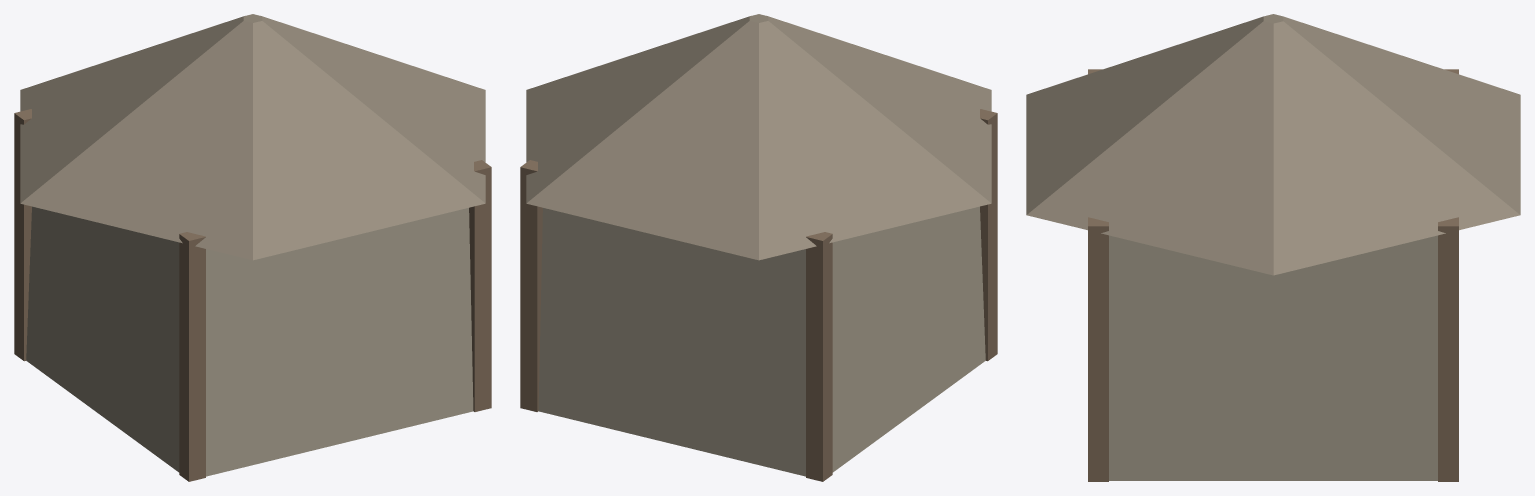
File: storehouse.glb
3 renders of one model, left to right at view 1: azimuth 30°, elevation 25°; view 2: azimuth 150°, elevation 25°; view 3: azimuth 270°, elevation 25°, orthographic. The views are drawn at different scales.
Visible parts, largest first — view 1: storehouse; view 2: storehouse; view 3: storehouse.
Boxes of the visible parts, box(x1,y1,x2,y2) form: storehouse: box(14, 14, 491, 481); storehouse: box(520, 14, 997, 481); storehouse: box(1026, 14, 1520, 481).
Size of the model in its own units: 4.37 by 3.25 by 3.78.
